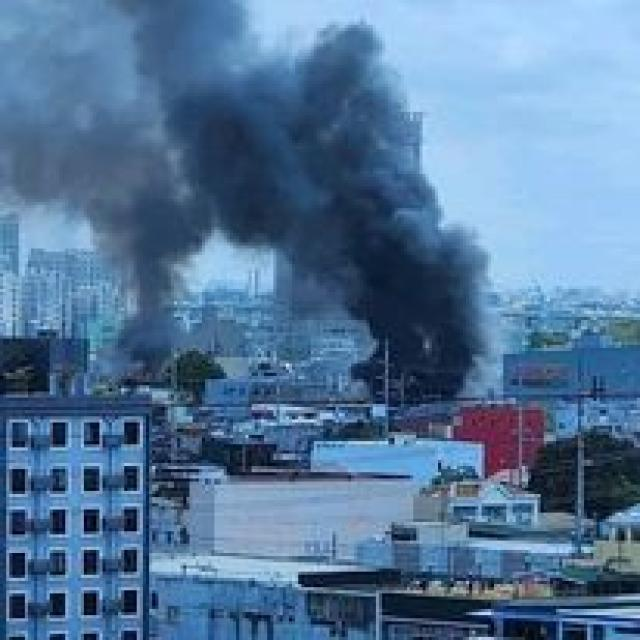Smoke: (0, 3, 407, 183), (258, 169, 462, 296), (80, 192, 198, 356), (368, 271, 481, 370)
